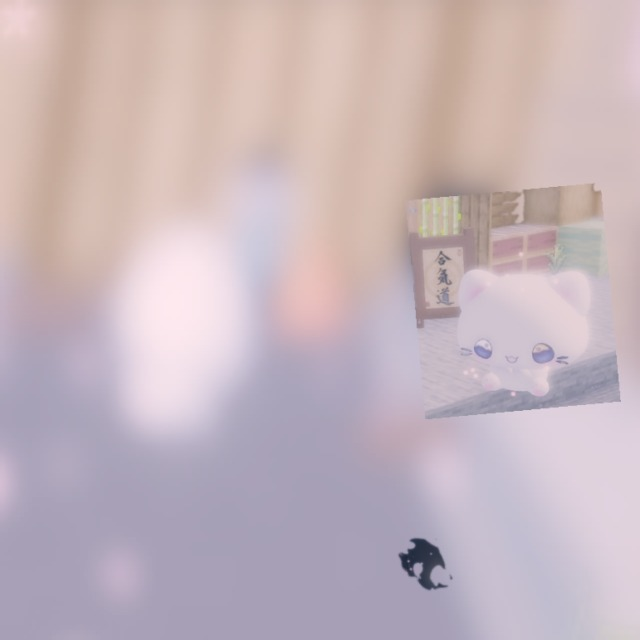urso_branco: (405, 182, 621, 420)
urso_preto: (383, 518, 468, 611)
